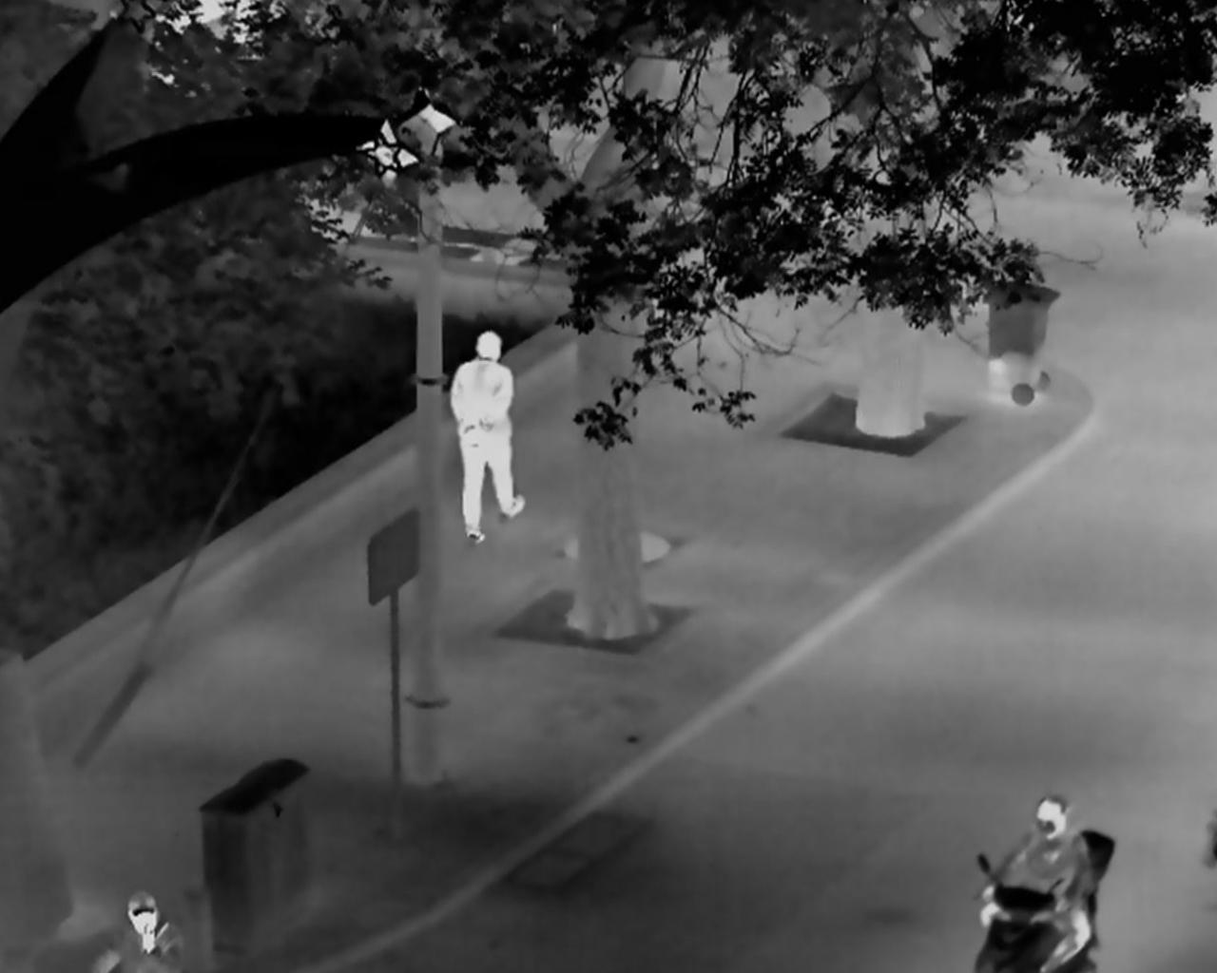person: (972, 792, 1091, 973), (450, 332, 527, 544), (88, 888, 185, 973)
